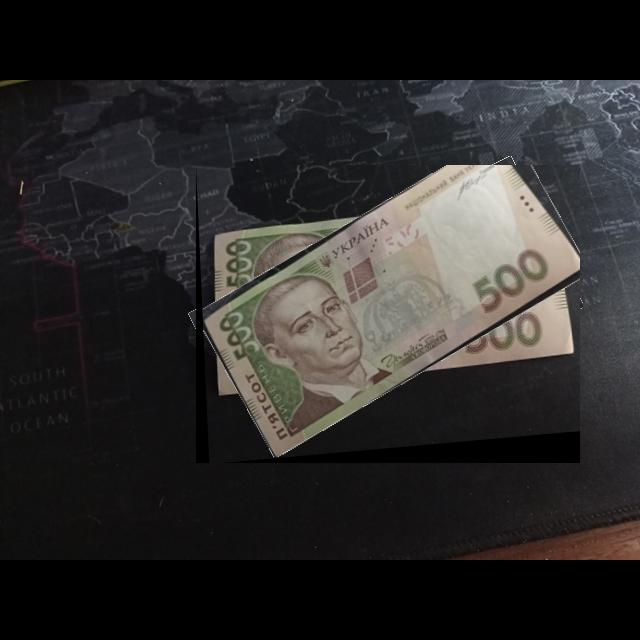500uah: (201, 165, 581, 459)
